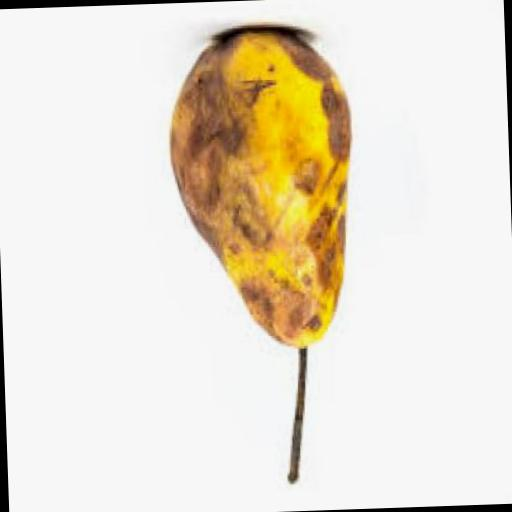biodegradable: (168, 23, 366, 490)
